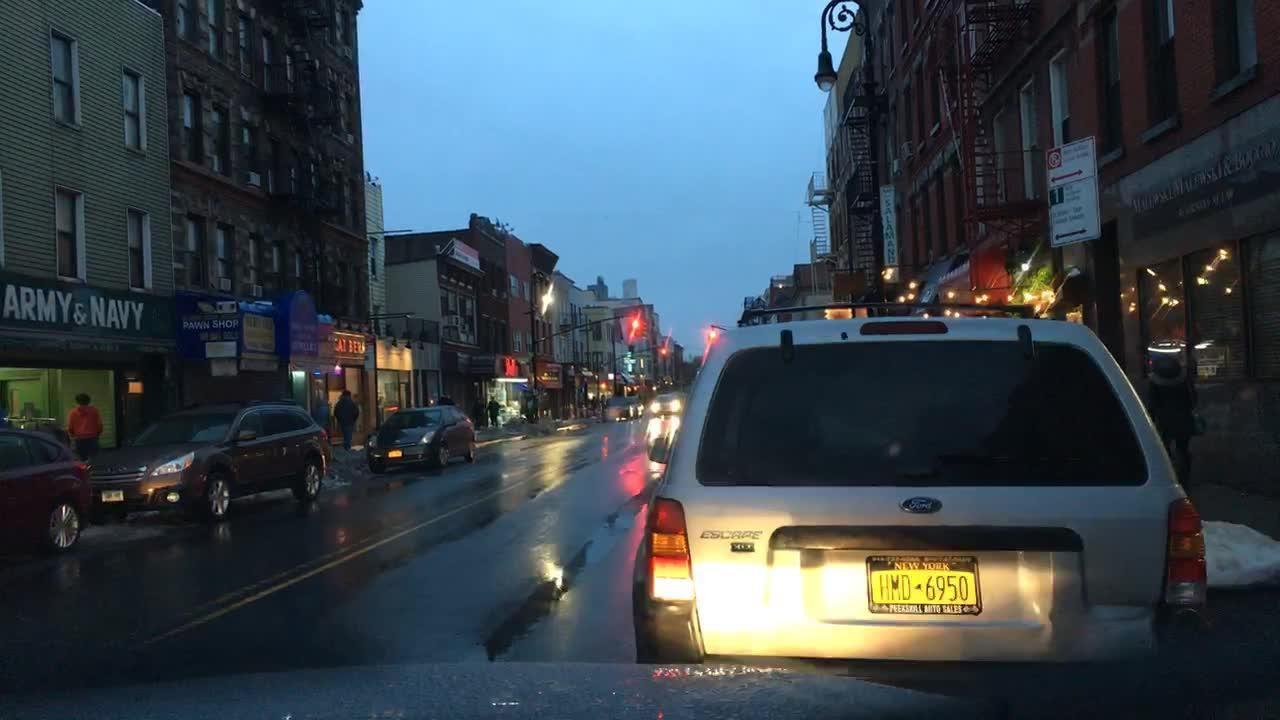ford: (896, 490, 950, 517)
